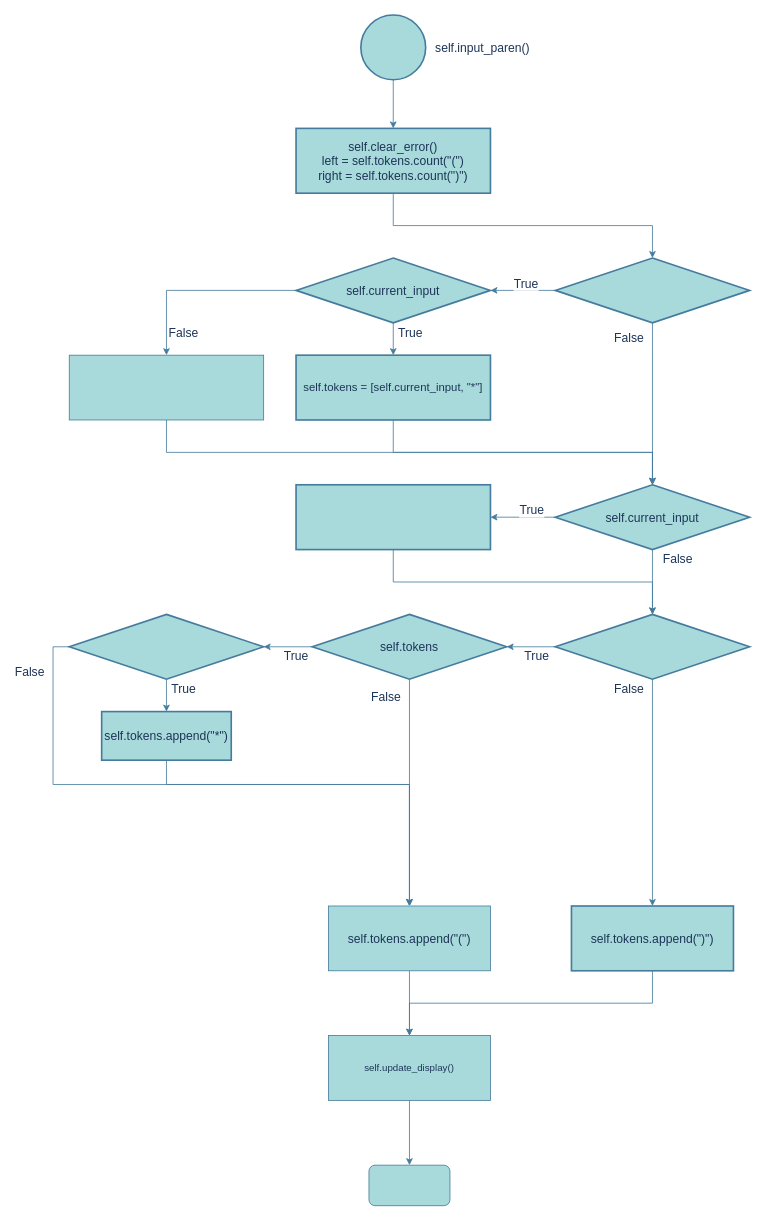
Image size: 764x1220. Some labels were removed from this diagram. The shapes that lost their labels are listed below. From the top down, each one's centre as x and y in pixels, then its label:
pixel 652 290: self.just_calculated
pixel 166 387: self.tokens = []
pixel 393 517: self.tokens.append(self.current_input) self.current_input = ""
pixel 166 646: self.is_number(self.tokens[-1]) or self.tokens[-1] == ")"
pixel 652 646: left <= right
